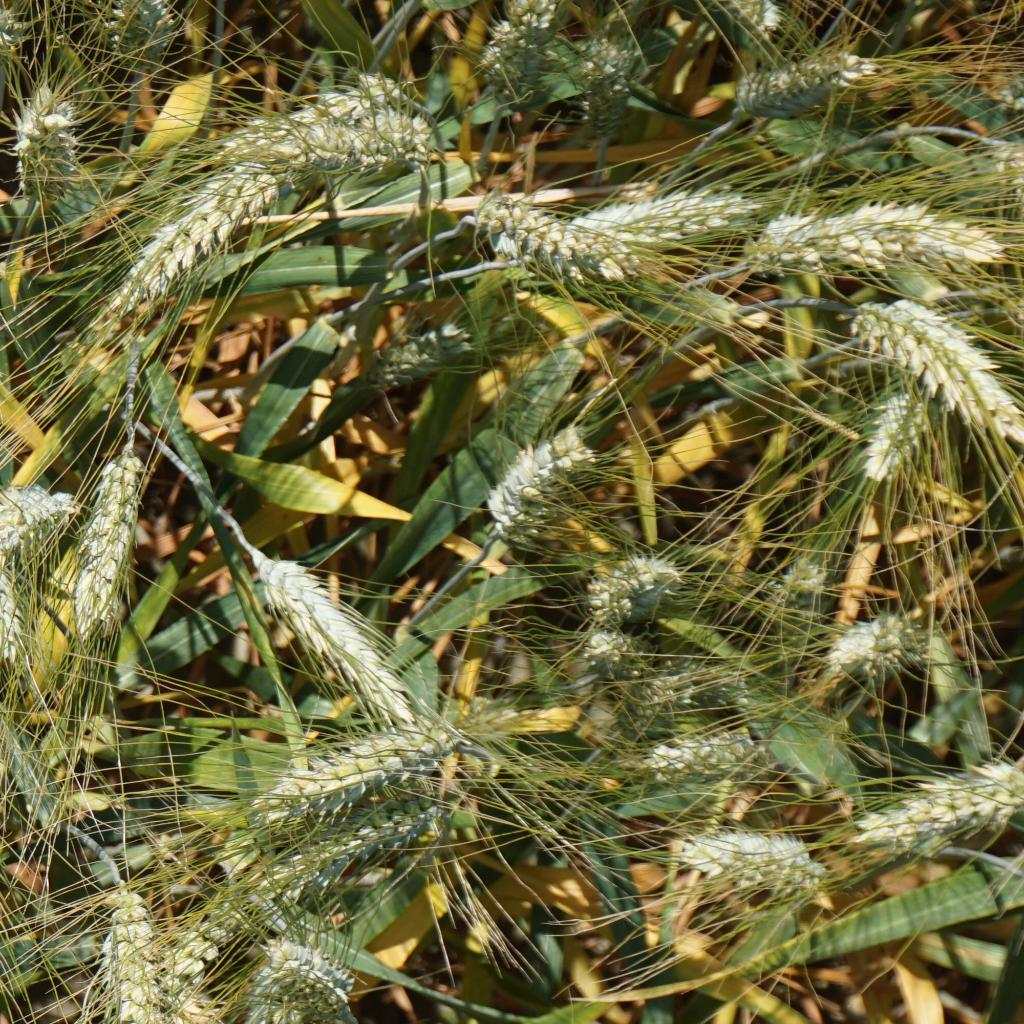0-0: (248, 545, 424, 729), (845, 289, 1021, 435), (118, 169, 293, 296), (464, 195, 648, 306), (470, 421, 606, 551), (265, 802, 449, 885), (82, 877, 184, 1024), (71, 446, 150, 631), (260, 730, 459, 800), (857, 759, 1024, 841), (562, 186, 758, 253), (680, 816, 824, 897), (858, 183, 995, 258), (10, 94, 90, 220), (726, 52, 885, 114), (747, 209, 887, 279), (240, 112, 428, 163), (257, 924, 357, 1016), (576, 545, 680, 632), (168, 864, 243, 984), (483, 0, 559, 109), (822, 606, 928, 684), (854, 379, 931, 480), (642, 723, 754, 781), (372, 320, 473, 384), (0, 464, 73, 546), (579, 29, 642, 112), (94, 4, 182, 62), (304, 67, 407, 114), (214, 978, 311, 1024), (0, 531, 30, 668), (677, 653, 748, 706), (756, 565, 830, 614), (584, 627, 641, 687), (158, 972, 221, 1024), (714, 0, 778, 44), (611, 684, 669, 723), (0, 11, 32, 73)
